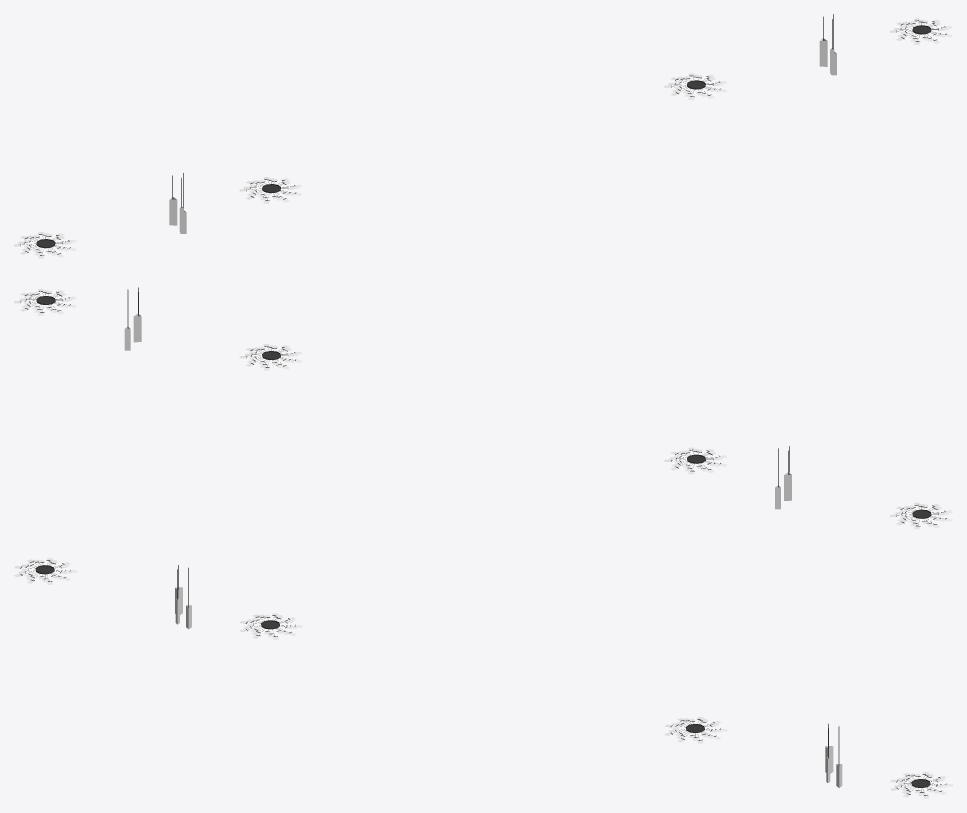
File: LightLobby.fbx
3 views of the same model, one above another, from view 1: azimuth 30°, elevation 25°; view 2: azimuth 150°, elevation 25°; view 3: azimuth 330°, elevation 25° (orthographic).
Visible parts, largest first — view 1: Lamp18_Light_2; view 2: Lamp18_Light_2; view 3: Lamp18_Light_2.
Boxes of the visible parts, <box> form: Lamp18_Light_2: <box>14,14,952,258</box>; Lamp18_Light_2: <box>14,287,952,529</box>; Lamp18_Light_2: <box>14,558,952,798</box>.
Bounding box in the file's own units: 116 × 7.18 × 6.8.
Materials: 1 (1 with a texture image).
